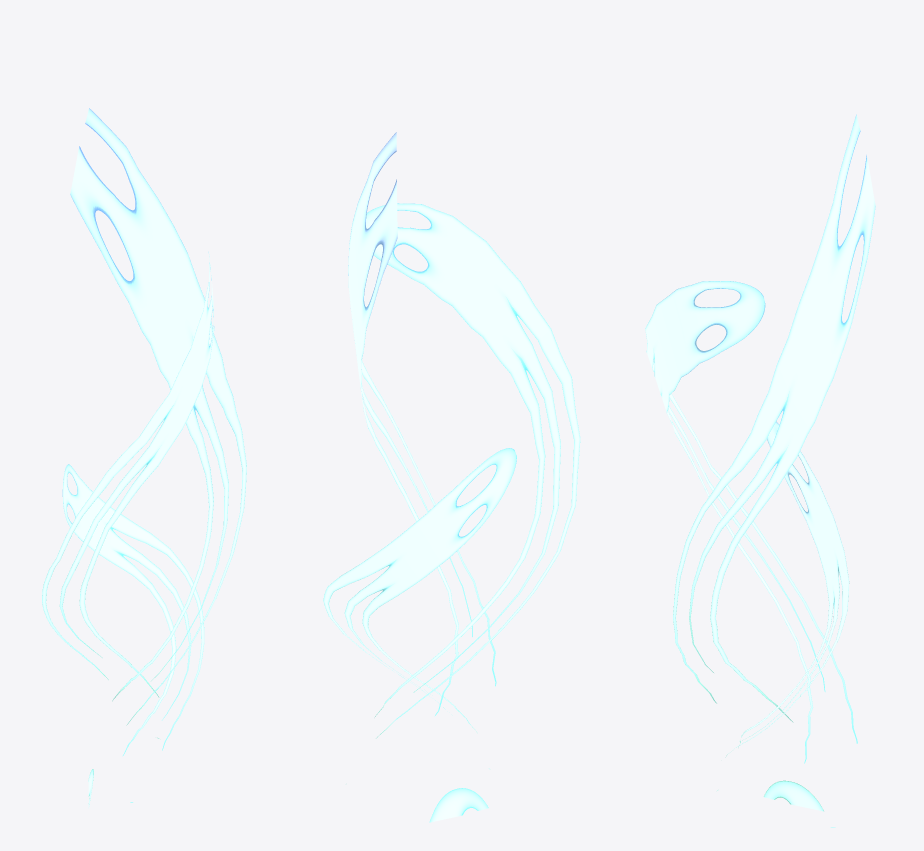
The model's file is ghostSwirls_1.fbx.
The picture shows the model from 3 angles, left to right: view 1: azimuth 30°, elevation 25°; view 2: azimuth 150°, elevation 25°; view 3: azimuth 270°, elevation 25°; orthographic projection. The views are drawn at different scales.
Parts seen in each view (by area): view 1: ghostSwirl_3, ghostSwirl_2, ghostSwirl_1; view 2: ghostSwirl_2, ghostSwirl_1, ghostSwirl_3; view 3: ghostSwirl_3, ghostSwirl_2, ghostSwirl_1.
Boxes of the visible parts, x1,y1,x2,y2 form: ghostSwirl_3: (70,108,246,807); ghostSwirl_2: (42,252,214,738); ghostSwirl_1: (62,464,204,802); ghostSwirl_2: (366,203,580,738); ghostSwirl_1: (323,448,516,768); ghostSwirl_3: (348,132,496,822); ghostSwirl_3: (673,114,875,811); ghostSwirl_2: (645,281,857,827); ghostSwirl_1: (717,421,849,790).
Size of the model in its own units: 4.5 by 14.1 by 4.37.
